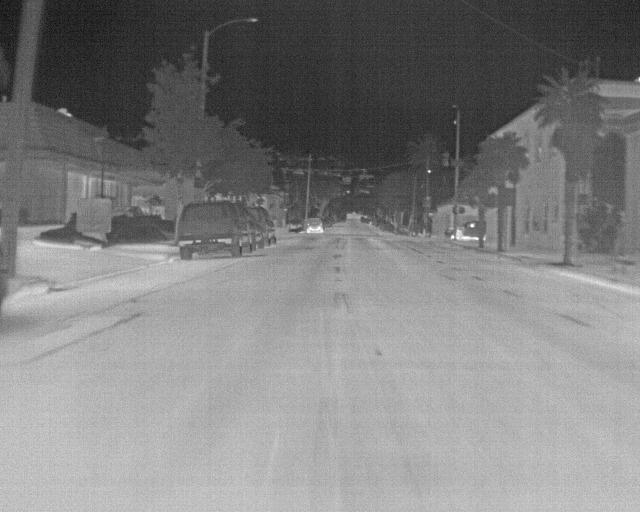car: (178, 201, 244, 261), (236, 201, 263, 253), (251, 204, 279, 247), (458, 219, 479, 241), (306, 219, 323, 236), (442, 226, 459, 242)
